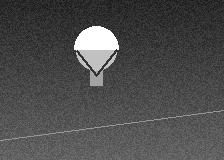helmet: (74, 26, 118, 75)
